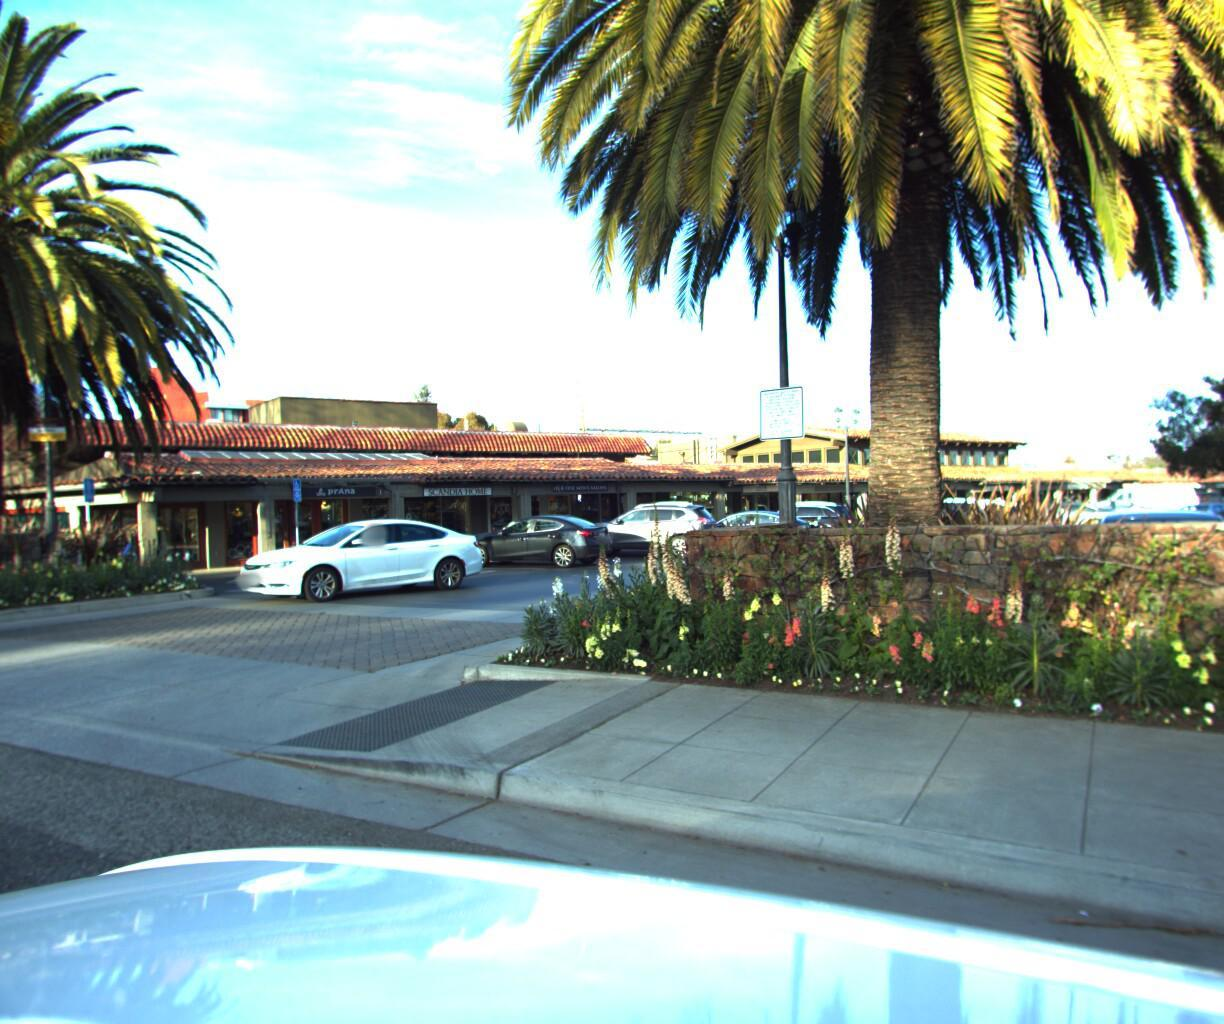car: (216, 507, 489, 605), (1077, 496, 1224, 665), (446, 503, 619, 562)
